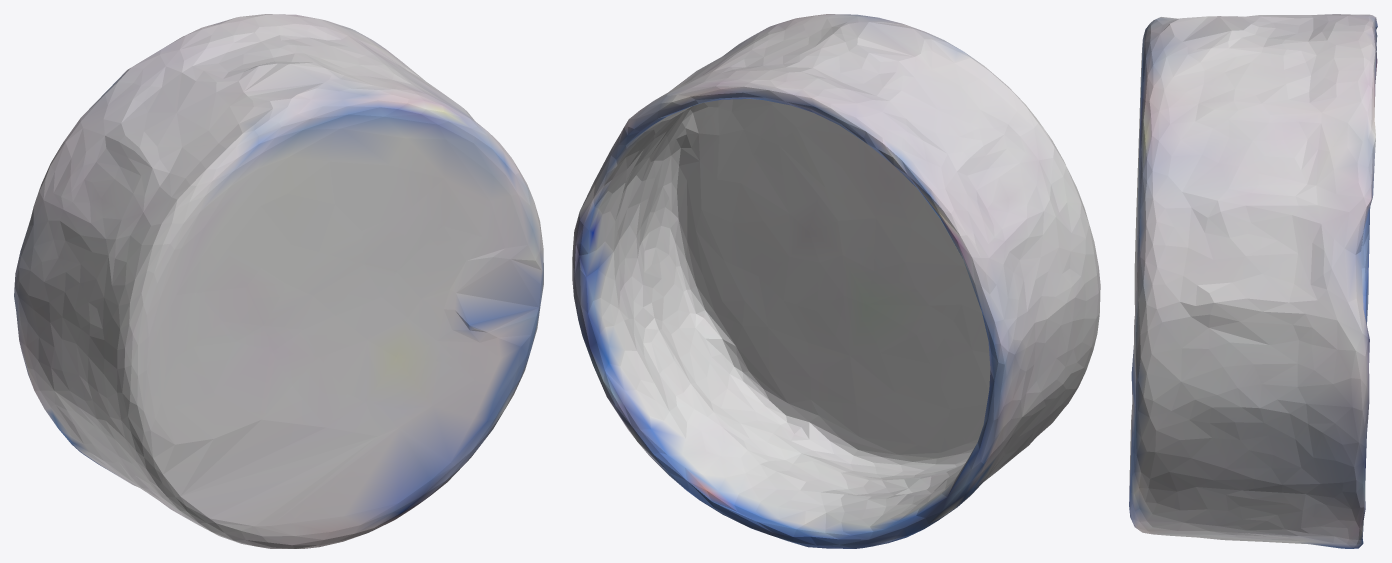
File: scan.obj
3 views of the same model, side by side, from view 1: azimuth 30°, elevation 25°; view 2: azimuth 150°, elevation 25°; view 3: azimuth 270°, elevation 25° (orthographic). The views are drawn at different scales.
Visible parts, largest first — view 1: scan.ply; view 2: scan.ply; view 3: scan.ply.
Part boxes in pixels (<box>): scan.ply: <box>14,14,543,548</box>; scan.ply: <box>572,14,1100,548</box>; scan.ply: <box>1129,14,1377,548</box>.
Bounding box in the file's own units: 0.0439 × 0.0444 × 0.0204.
